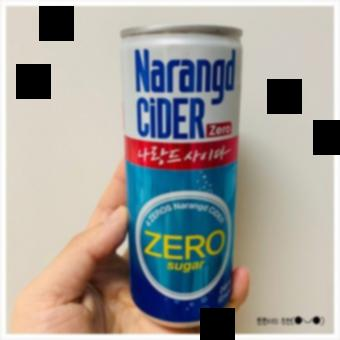narangdcider: (114, 23, 245, 330)
